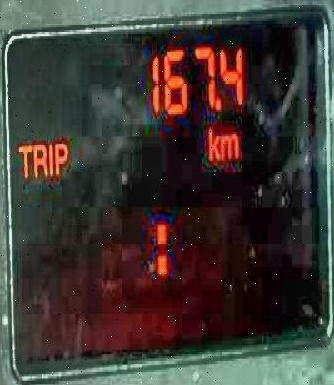-: (213, 96, 220, 109)
1: (150, 52, 158, 112)
4: (219, 45, 242, 105)
6: (162, 47, 186, 114)
7: (193, 45, 213, 107)
X: (156, 220, 167, 274), (32, 140, 47, 178), (16, 143, 32, 178), (219, 131, 238, 158), (53, 140, 67, 174), (207, 125, 218, 160), (48, 140, 52, 176)
